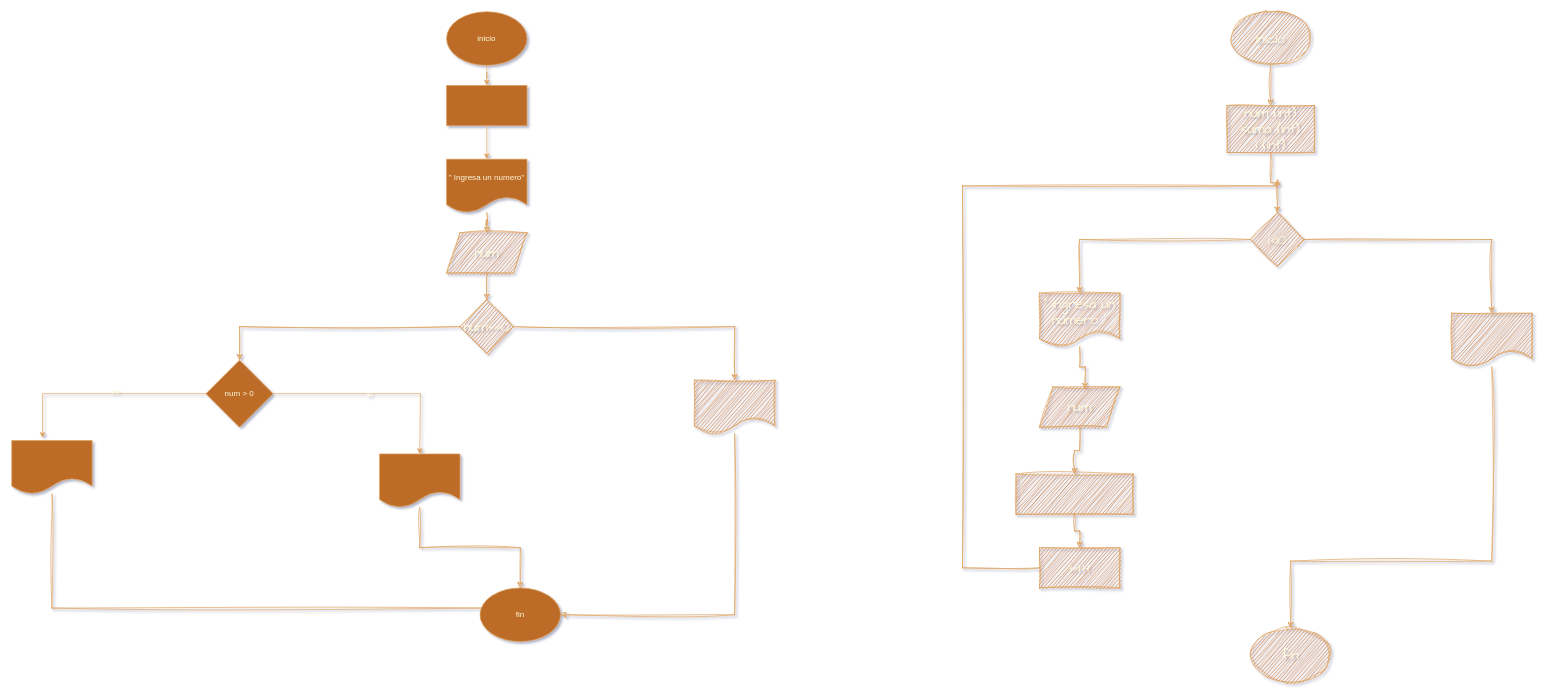
This 1548x697 diagram has some shape labels left out. Each missing label, with the centre of its shape:
" El cero es neutro ": point (734, 407)
" El numero es negativo": point (51, 467)
" El numero es positivo ": point (419, 480)
num (int): point (486, 105)
suma: point (1491, 340)
suma=suma+num: point (1074, 493)
